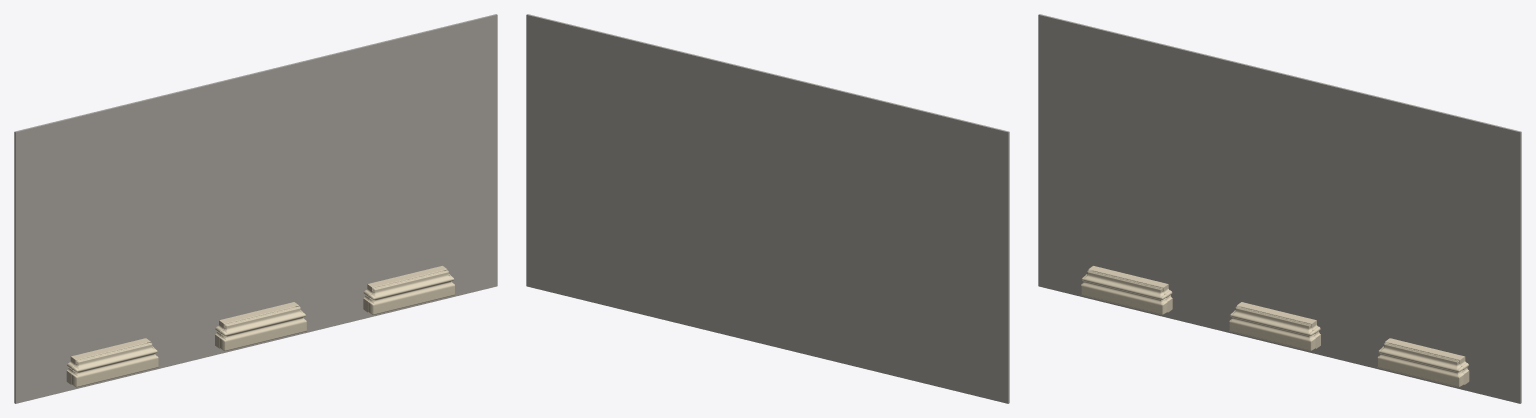
The model's file is terilgan.glb.
3 views of the same model, side by side, from view 1: azimuth 30°, elevation 25°; view 2: azimuth 150°, elevation 25°; view 3: azimuth 330°, elevation 25° (orthographic).
Parts seen in each view (by area): view 1: Devor, t0, t1, t2; view 2: Devor; view 3: Devor, t2, t0, t1.
Part boxes in pixels (box(x1,y1,x2,y2)): Devor: box(14, 14, 497, 403); t0: box(66, 338, 158, 387); t1: box(215, 302, 306, 350); t2: box(363, 266, 454, 314); Devor: box(526, 14, 1009, 403); Devor: box(1038, 14, 1521, 403); t2: box(1377, 338, 1469, 387); t0: box(1081, 266, 1172, 314); t1: box(1229, 302, 1320, 350).
Bounding box in the file's own units: 2.6 × 1.4 × 0.0969.
